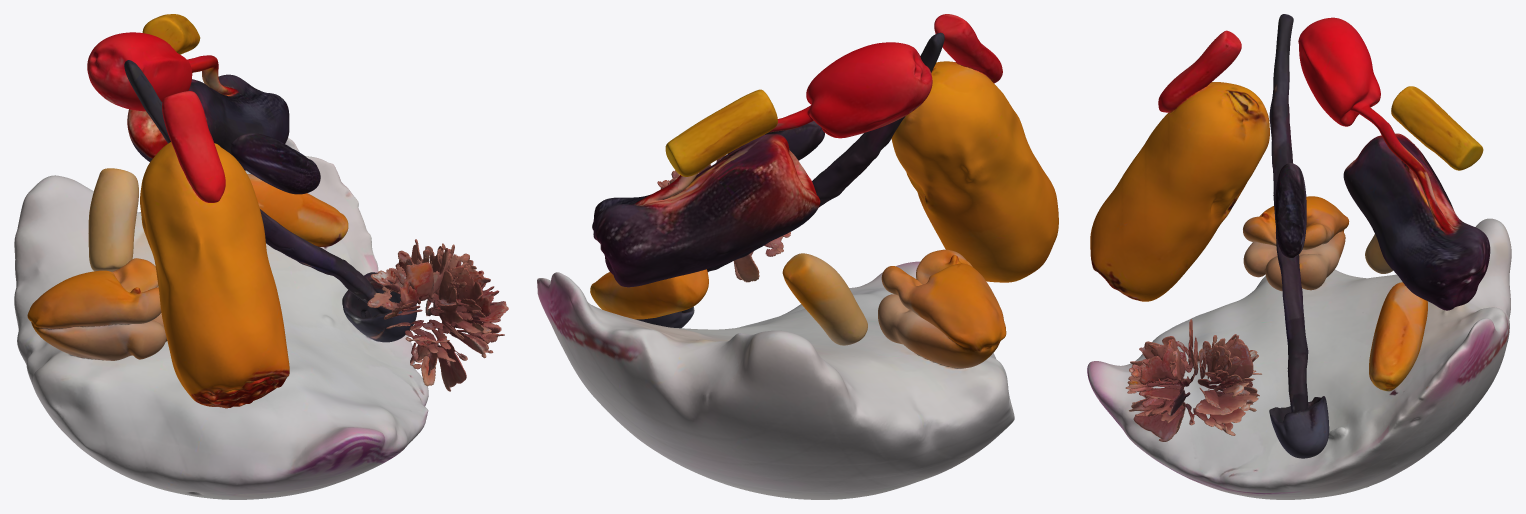
Rendered from cell-tweaked-prompt.glb.
3 renders of one model, left to right at view 1: azimuth 30°, elevation 25°; view 2: azimuth 150°, elevation 25°; view 3: azimuth 270°, elevation 25°, orthographic. The views are drawn at different scales.
Parts seen in each view (by area): view 1: tripo_node_b2ae39e8-3463-4050-9447-f15134b7eab6; view 2: tripo_node_b2ae39e8-3463-4050-9447-f15134b7eab6; view 3: tripo_node_b2ae39e8-3463-4050-9447-f15134b7eab6.
Part boxes in pixels (left/top/right/bottom): tripo_node_b2ae39e8-3463-4050-9447-f15134b7eab6: left=14, top=14, right=508, bottom=499; tripo_node_b2ae39e8-3463-4050-9447-f15134b7eab6: left=537, top=14, right=1058, bottom=499; tripo_node_b2ae39e8-3463-4050-9447-f15134b7eab6: left=1087, top=14, right=1511, bottom=499.
Bounding box in the file's own units: 0.9206 × 1 × 0.9415.
1 material, 1 textured.
